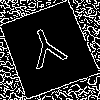Y: (23, 24, 72, 79)
